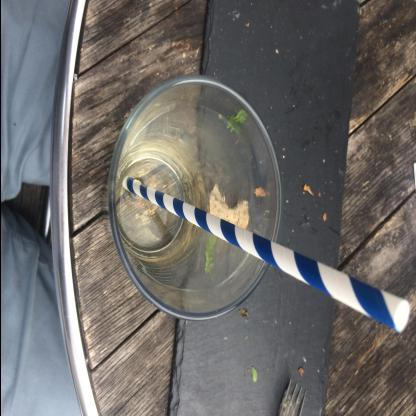plastik: (120, 174, 410, 332)
